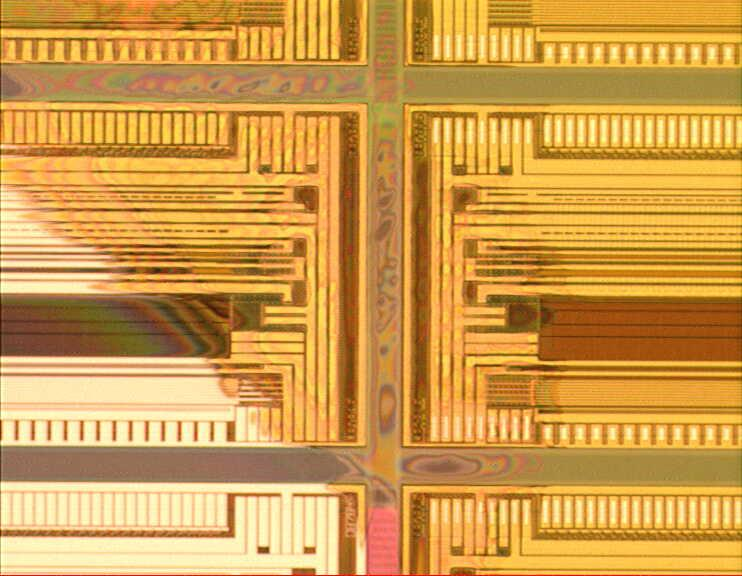COATING BAD: (1, 1, 571, 576)
